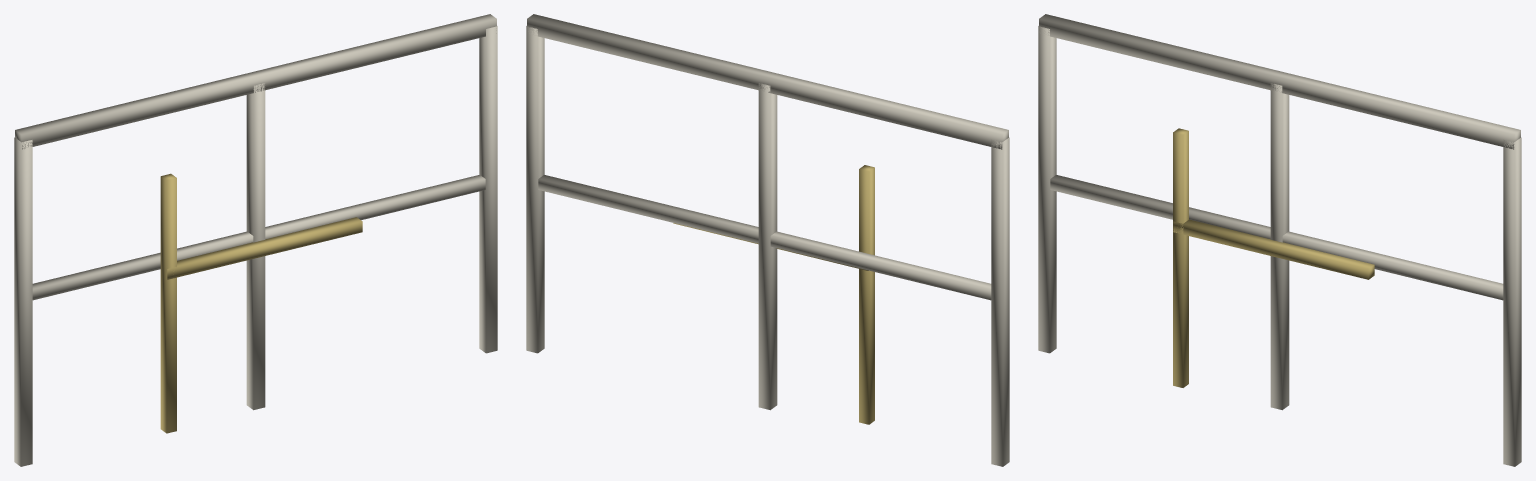
The model's file is civic_gate_l180_h120.glb.
The picture shows the model from 3 angles, left to right: view 1: azimuth 30°, elevation 25°; view 2: azimuth 150°, elevation 25°; view 3: azimuth 330°, elevation 25°; orthographic projection.
Visible parts, largest first — view 1: world; view 2: world; view 3: world.
Boxes of the visible parts, left/top/right/bottom form: world: left=14, top=14, right=497, bottom=466; world: left=526, top=14, right=1009, bottom=466; world: left=1038, top=14, right=1521, bottom=466.
Bounding box in the file's own units: 1.85 × 1.23 × 0.0825.
